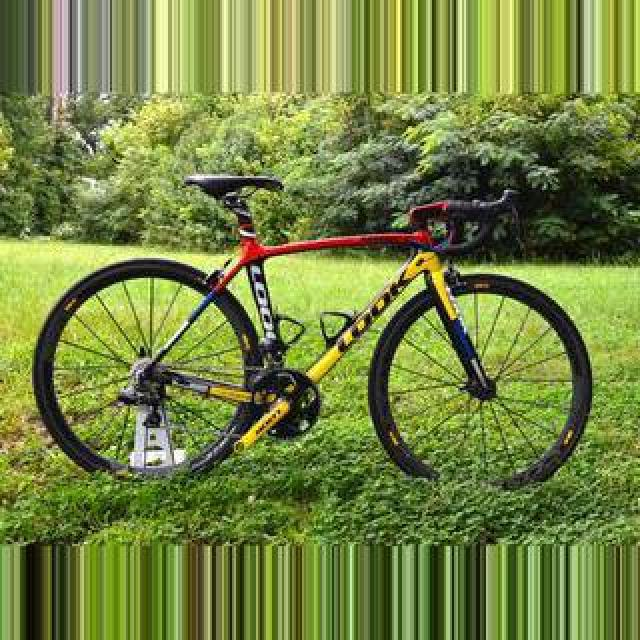Person: (37, 160, 573, 506)
